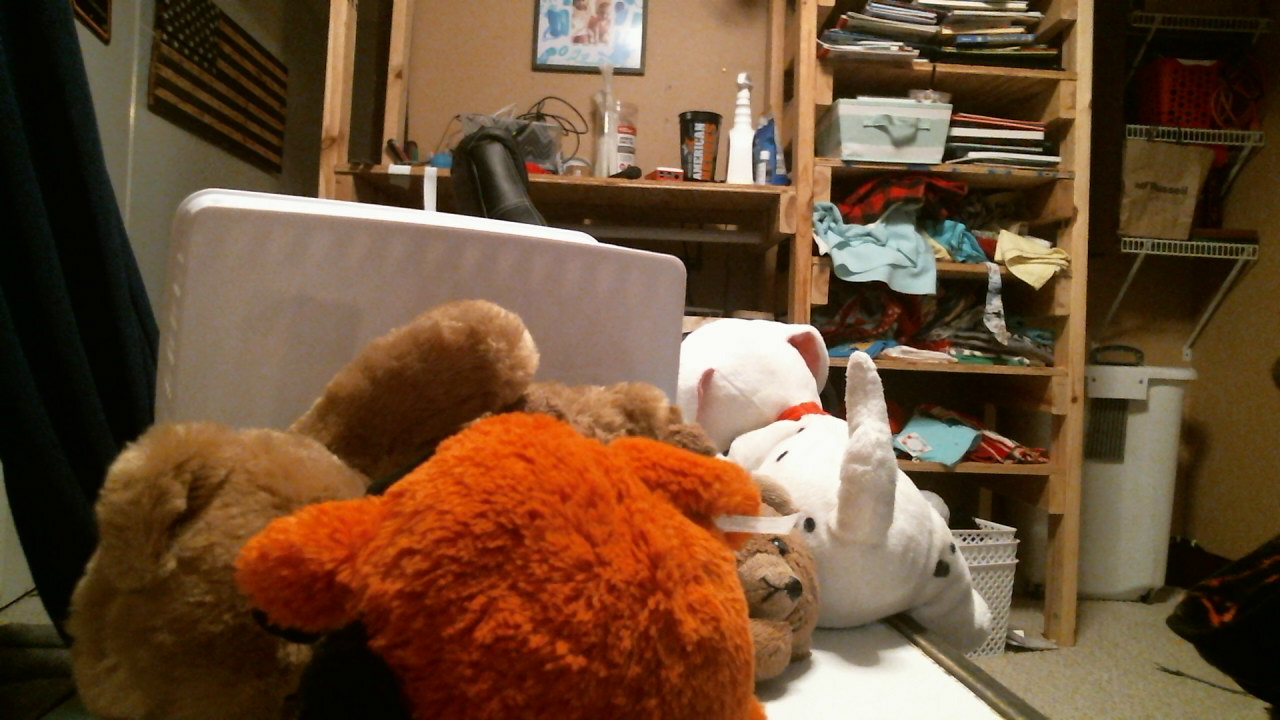Little_Mister_Bear: (747, 541, 821, 642)
